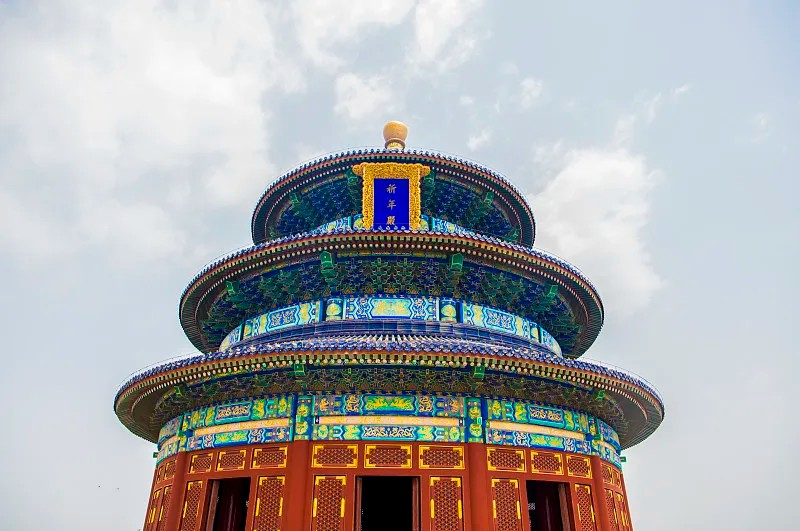Heaven: (114, 120, 665, 531)
